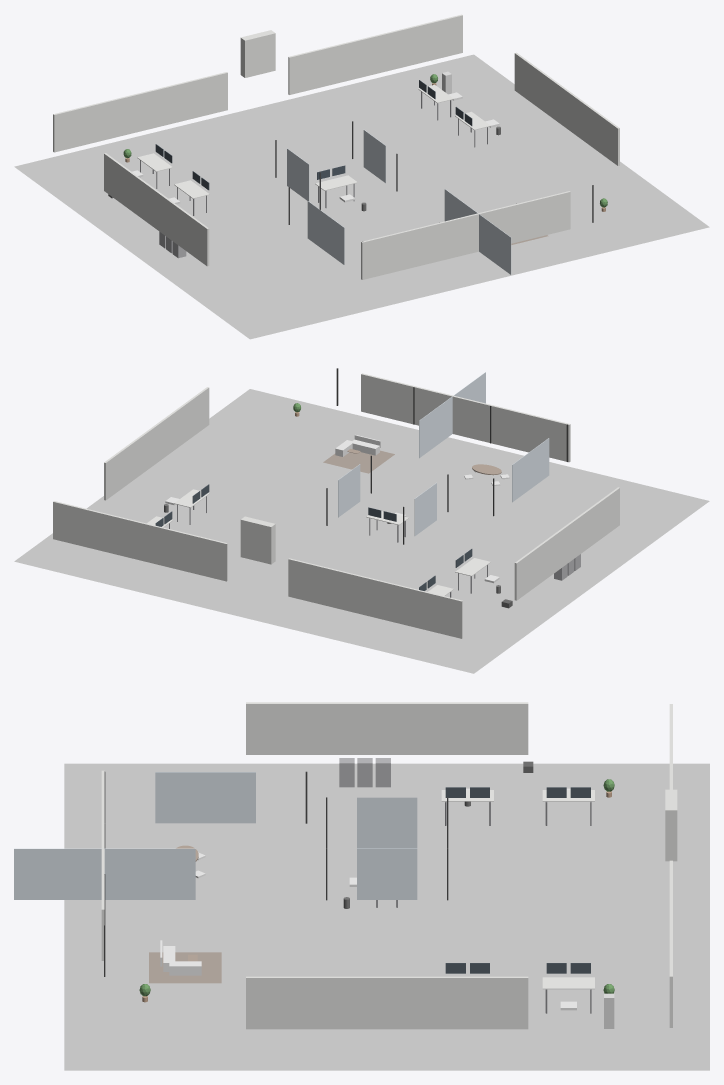
Rendered from office_v20.1.glb.
The picture shows the model from 3 angles, top to bottom: view 1: azimuth 30°, elevation 25°; view 2: azimuth 150°, elevation 25°; view 3: azimuth 270°, elevation 25°; orthographic projection. The views are drawn at different scales.
Parts seen in each view (by area): view 1: Plane, Cube, Cube.001, Cube.002, Cube.004, Cube.005, Cube.014, Cube.003, Cube.013, Cube.012, Cube.011; view 2: Plane, Cube, Cube.001, Cube.002, Cube.004, Cube.005, Cube.014, Cube.003, Cube.013, Cube.011, Cube.012, Plane.001; view 3: Plane, Cube.005, Cube.004, Cube.014, Cube.013, Cube.011, Cube.012, Plane.001, Cube.003, Cube, Cube.044, Cube.002.
Boxes of the visible parts, box(x1,y1,x2,y2) form: Plane: box(14, 54, 709, 339); Cube: box(361, 191, 570, 279); Cube.001: box(53, 72, 227, 152); Cube.002: box(288, 14, 462, 94); Cube.004: box(104, 153, 209, 266); Cube.005: box(514, 52, 619, 165); Cube.014: box(444, 189, 511, 274); Cube.003: box(240, 30, 275, 77); Cube.013: box(307, 201, 344, 264); Cube.012: box(363, 130, 385, 183); Cube.011: box(287, 148, 309, 201); Plane: box(14, 389, 709, 673); Cube: box(361, 373, 570, 462); Cube.001: box(288, 558, 462, 638); Cube.002: box(53, 501, 227, 581); Cube.004: box(514, 487, 619, 600); Cube.005: box(104, 387, 209, 500); Cube.014: box(419, 372, 485, 458); Cube.003: box(240, 516, 275, 564); Cube.013: box(512, 438, 549, 502); Cube.011: box(414, 482, 436, 535); Cube.012: box(338, 464, 360, 517); Plane.001: box(323, 450, 394, 473); Plane: box(64, 763, 709, 1070); Cube.005: box(246, 976, 528, 1029); Cube.004: box(246, 702, 528, 754); Cube.014: box(14, 848, 195, 899); Cube.013: box(155, 772, 255, 823); Cube.011: box(357, 797, 417, 848); Cube.012: box(357, 848, 417, 899); Plane.001: box(149, 952, 221, 983); Cube.003: box(665, 789, 677, 861); Cube: box(101, 770, 104, 960); Cube.044: box(542, 977, 594, 989); Cube.002: box(669, 860, 672, 1027).
Size of the model in its own units: 18 by 3.2 by 17.25.
